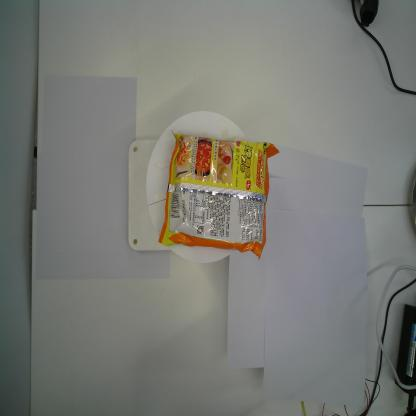Instant Noodles: (158, 129, 280, 260)
